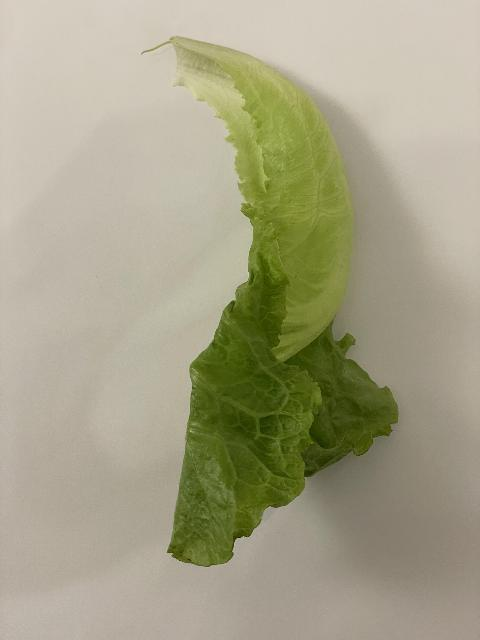lettuce: (168, 34, 400, 566)
